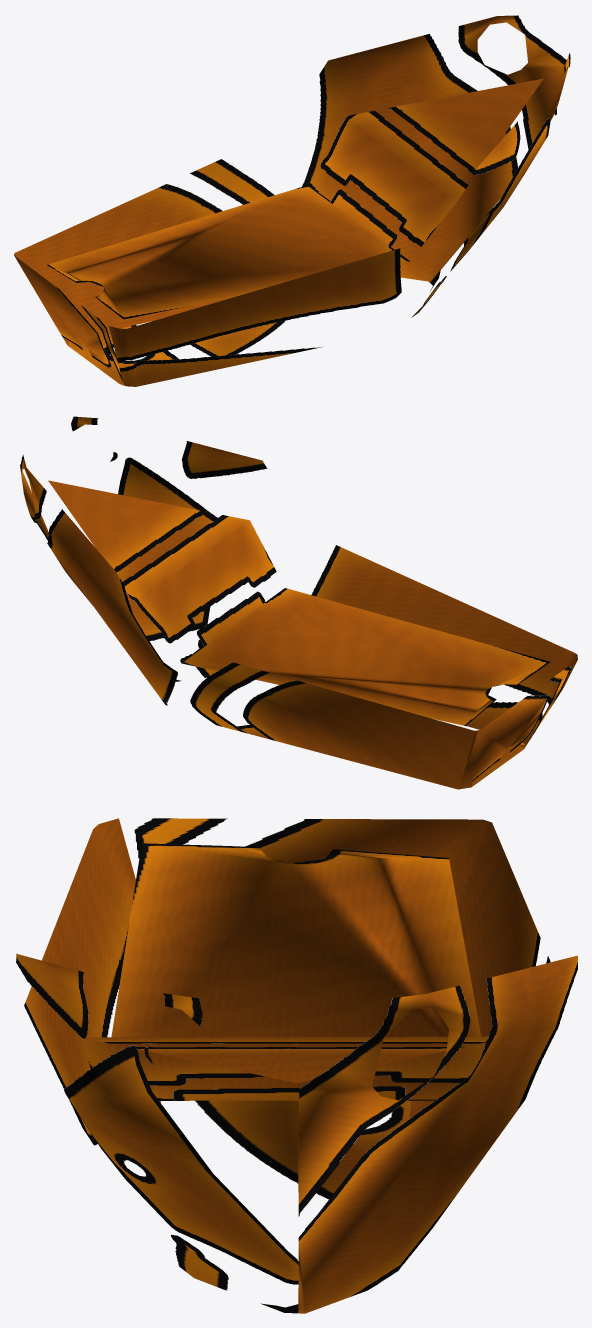
The model's file is 3DBenchyHullCollider.obj.
3 views of the same model, one above another, from view 1: azimuth 30°, elevation 25°; view 2: azimuth 150°, elevation 25°; view 3: azimuth 270°, elevation 25° (orthographic). The views are drawn at different scales.
Visible parts, largest first — view 1: BoatHull_Collider; view 2: BoatHull_Collider; view 3: BoatHull_Collider.
Boxes of the visible parts, <box> form: BoatHull_Collider: <box>14,15,570,386</box>; BoatHull_Collider: <box>20,416,577,789</box>; BoatHull_Collider: <box>16,818,577,1313</box>.
Bounding box in the file's own units: 0.0296 × 0.0128 × 0.0148.
Materials: 1 (1 with a texture image).
